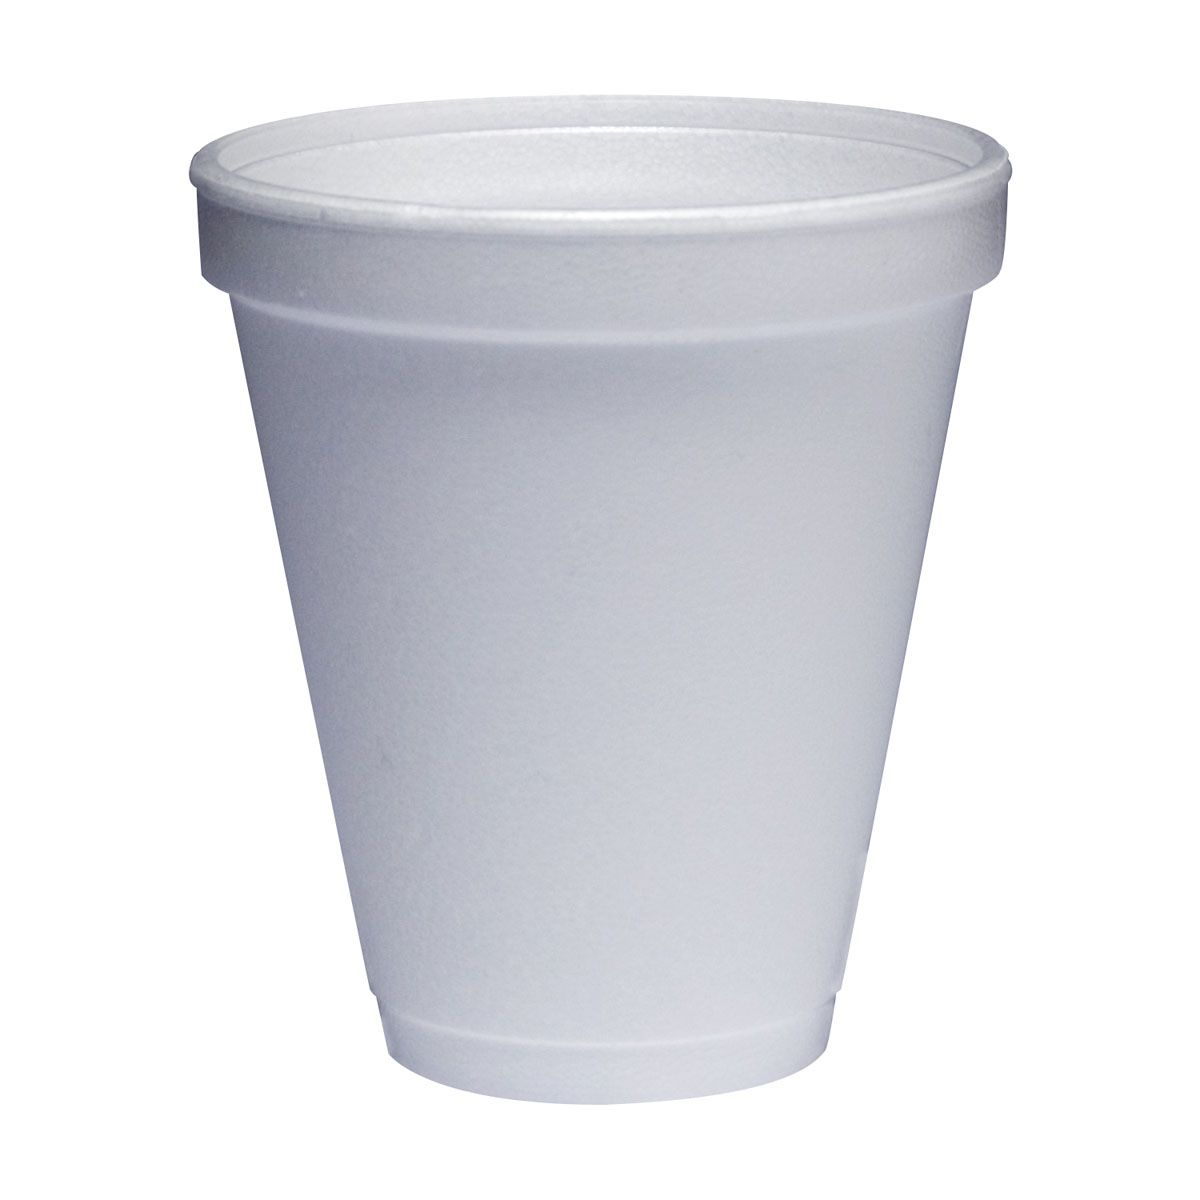Nonrec_Plastic: (99, 59, 1059, 1104)
